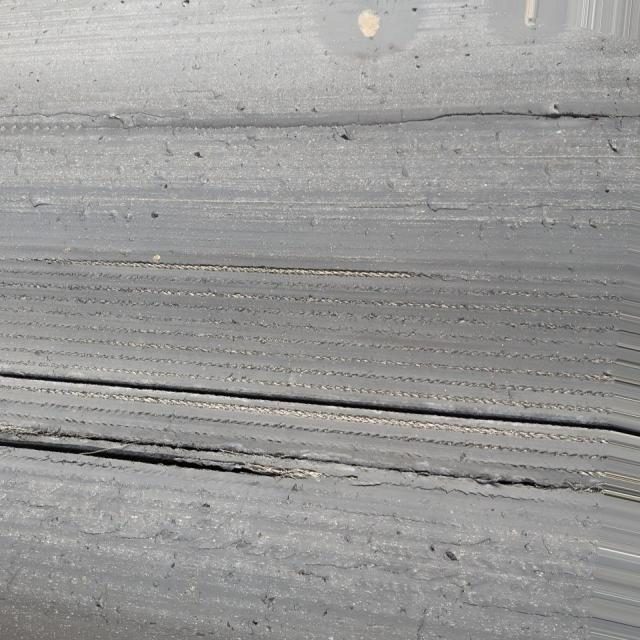Tear: (2, 363, 622, 438), (1, 433, 584, 488), (112, 105, 611, 133)
